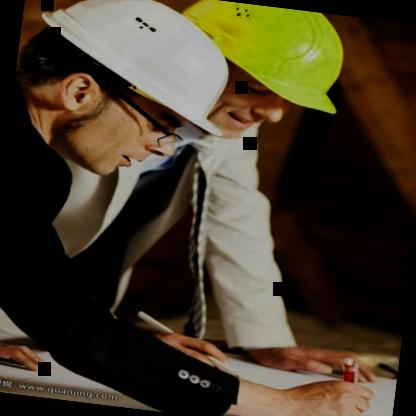helmet: (3, 0, 288, 201), (125, 0, 360, 183)
